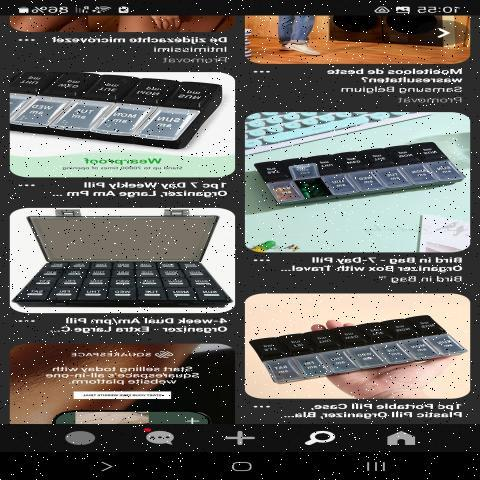PillBox: (12, 207, 223, 316), (251, 126, 465, 233), (5, 61, 227, 161), (243, 297, 468, 393)
